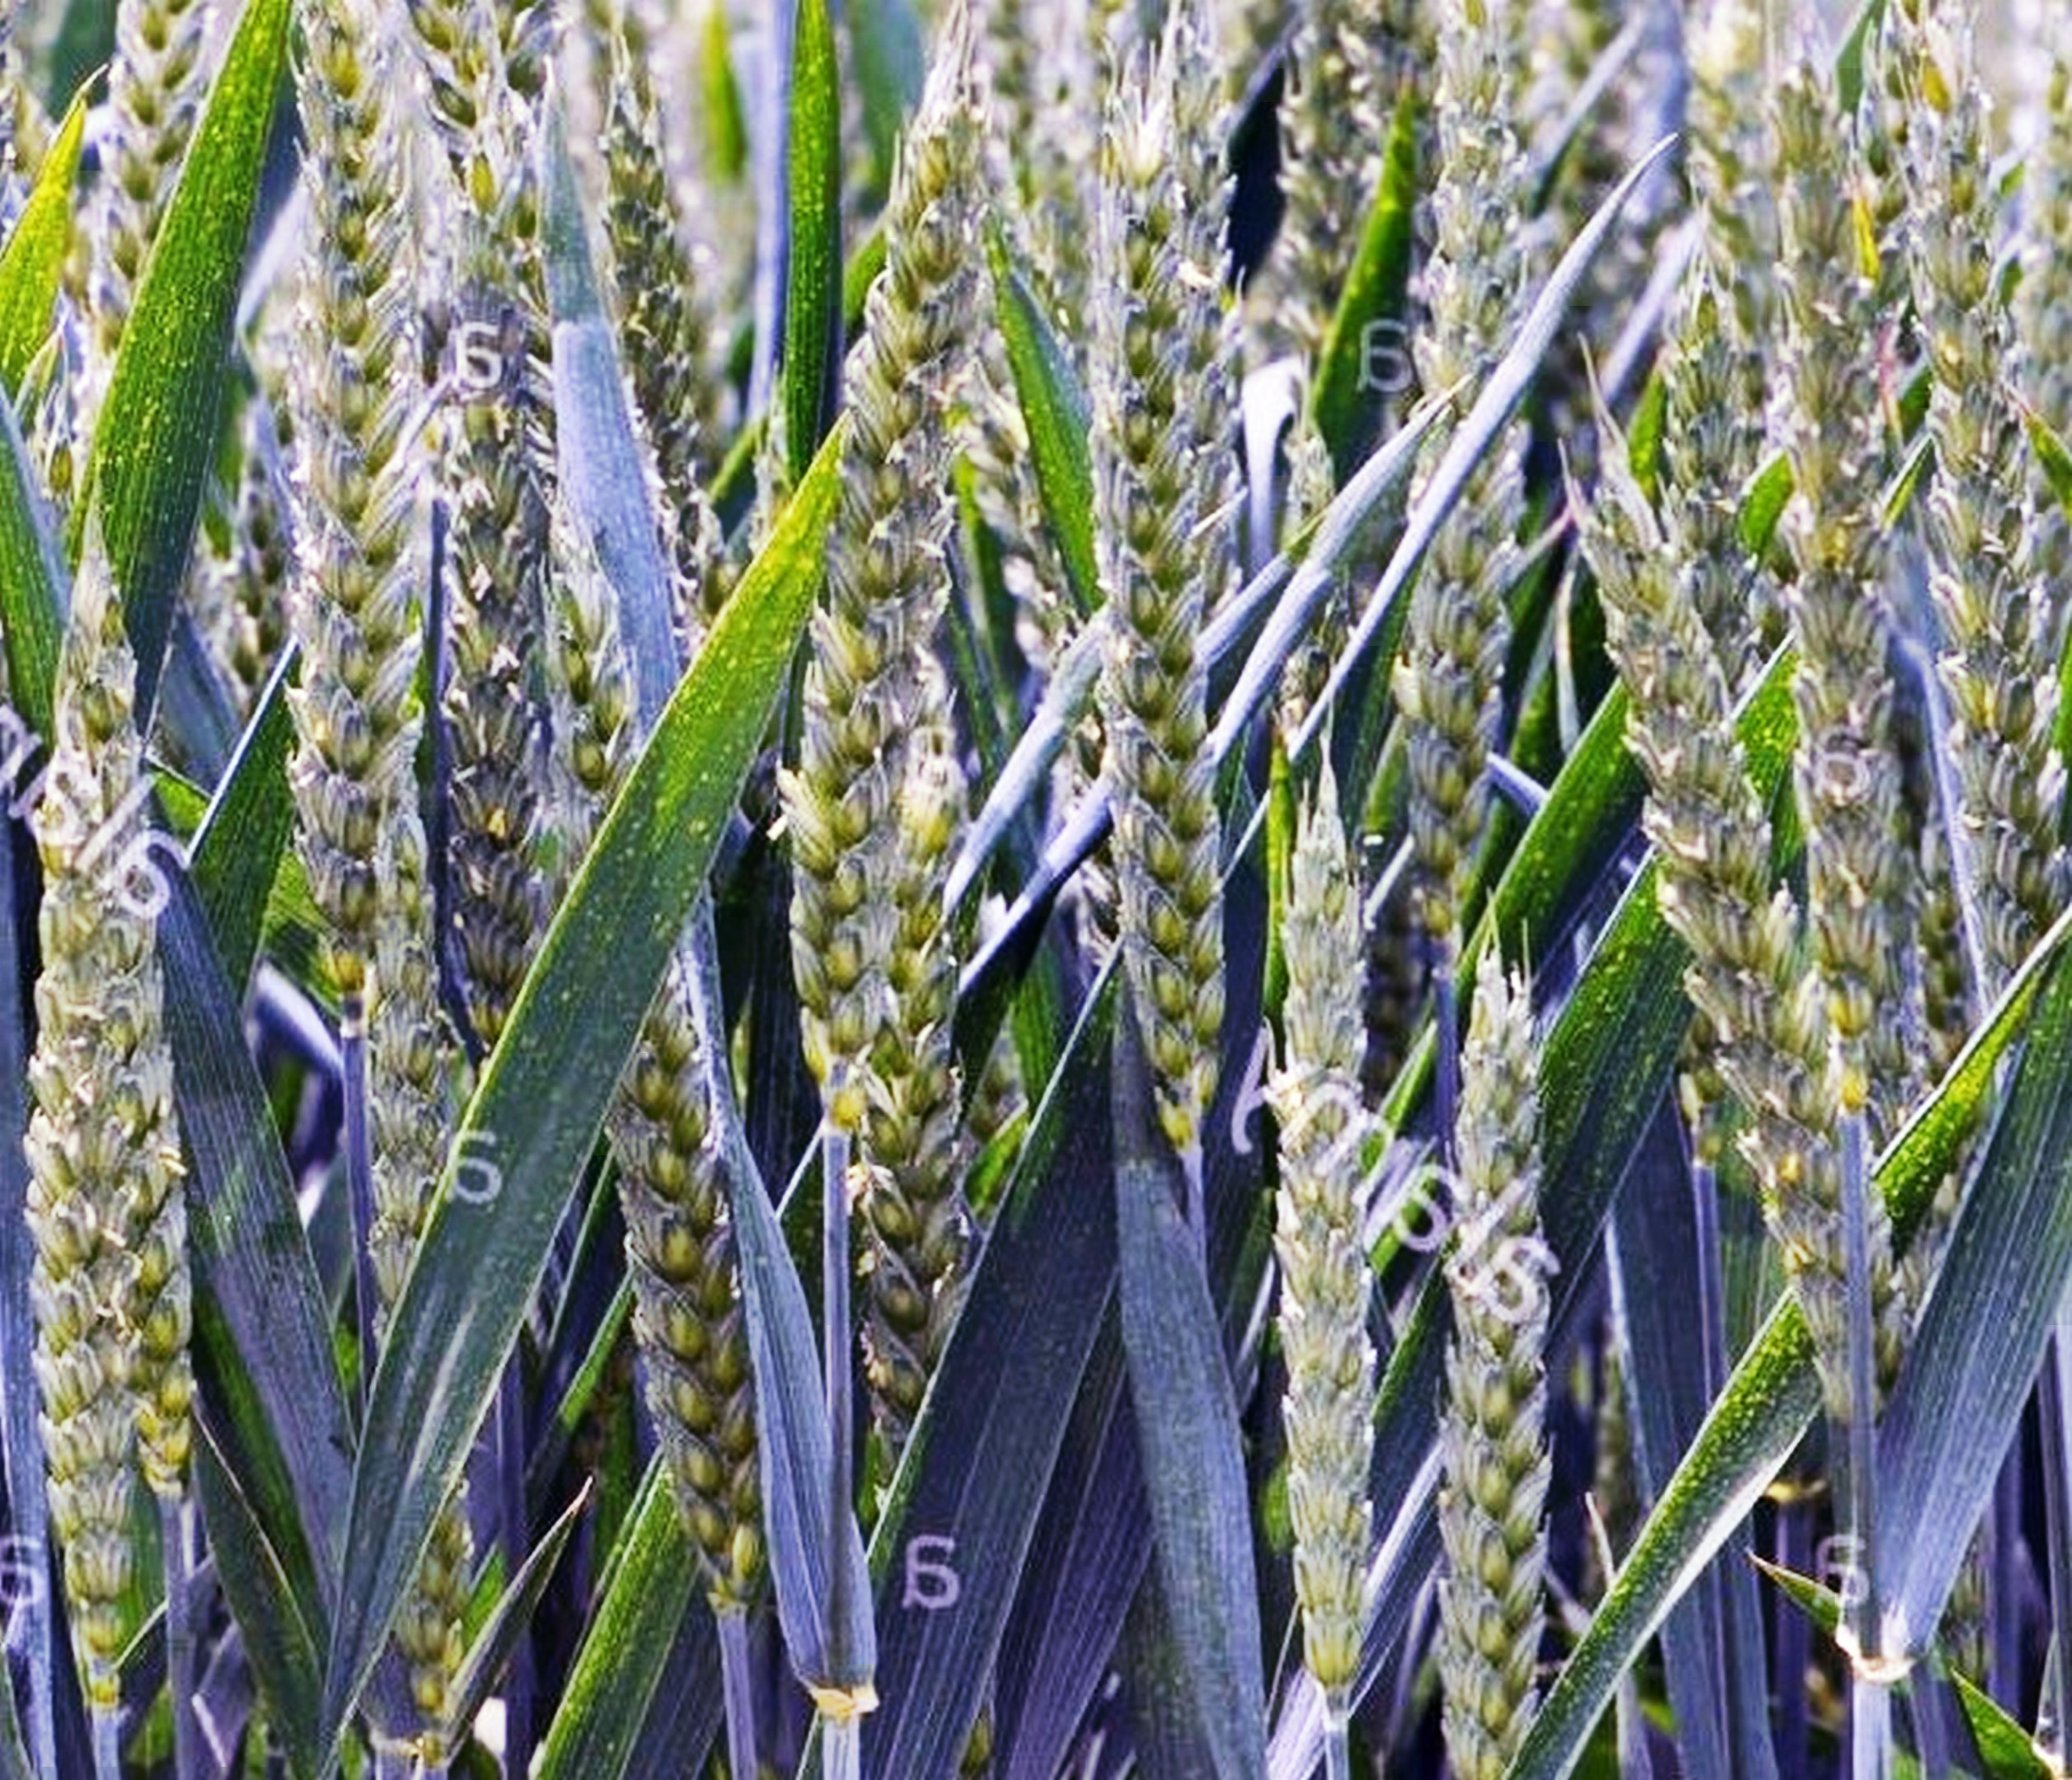Healthy Wheat: (754, 104, 1244, 1121), (1556, 419, 1843, 1387)
